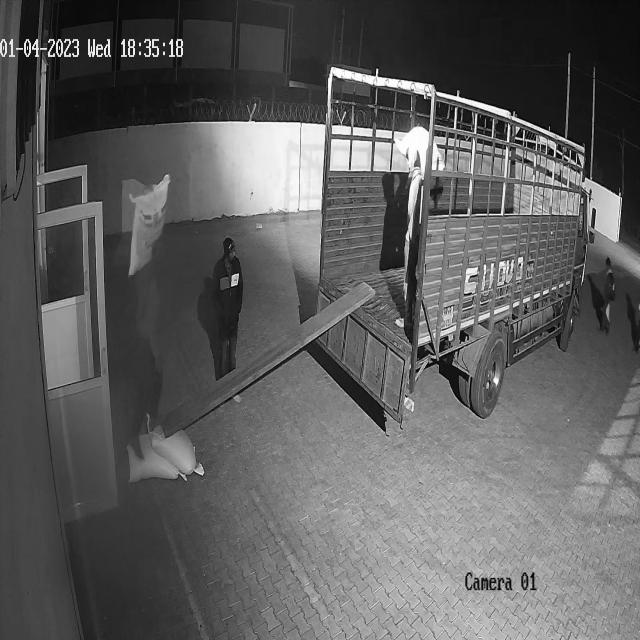sack: (126, 175, 170, 276), (145, 411, 204, 476), (128, 435, 187, 482), (394, 124, 446, 174)
